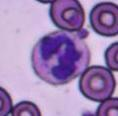N: (31, 31, 89, 84)
